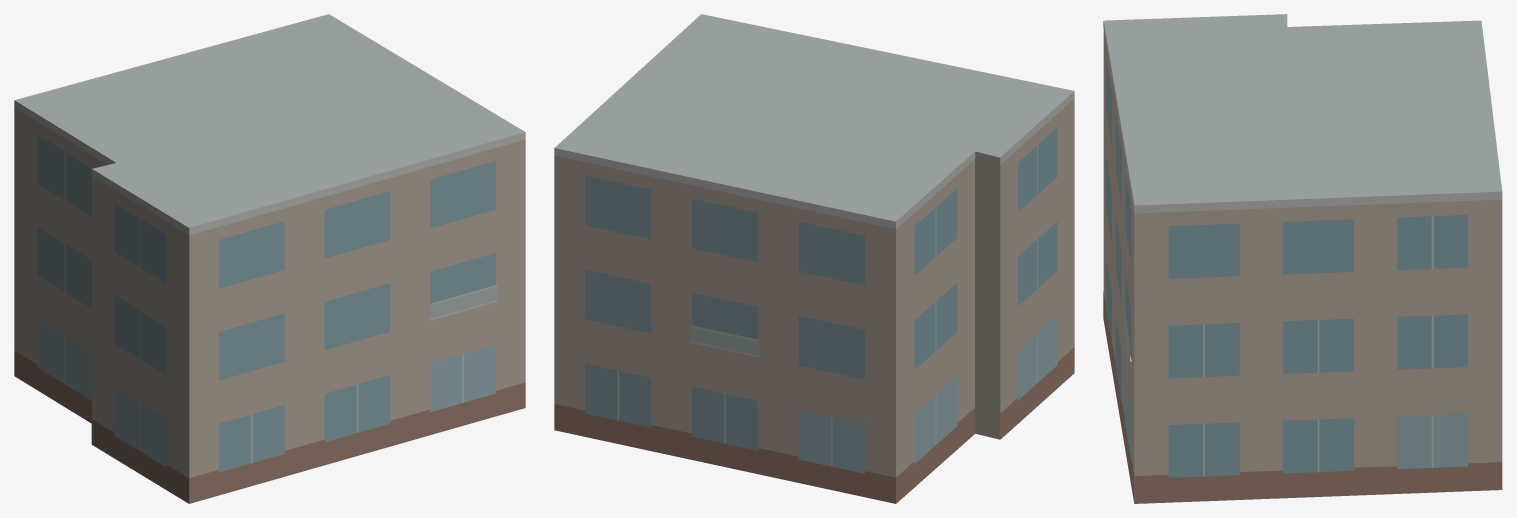
The model's file is survey-upis-32470592.glb.
3 views of the same model, side by side, from view 1: azimuth 30°, elevation 25°; view 2: azimuth 150°, elevation 25°; view 3: azimuth 270°, elevation 25° (orthographic). The views are drawn at different scales.
Visible parts, largest first — view 1: survey-upis-32470592.tmp; view 2: survey-upis-32470592.tmp; view 3: survey-upis-32470592.tmp.
Part boxes in pixels (bbox=[...]): survey-upis-32470592.tmp: bbox=[14, 14, 525, 503]; survey-upis-32470592.tmp: bbox=[554, 14, 1074, 503]; survey-upis-32470592.tmp: bbox=[1103, 14, 1502, 503].
Bounding box in the file's own units: 12.61 × 9.15 × 11.09.
